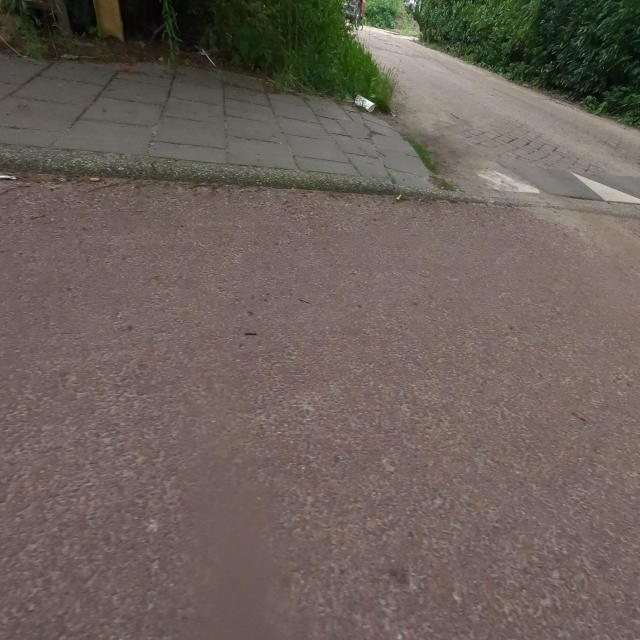Cup: (354, 94, 376, 113)
